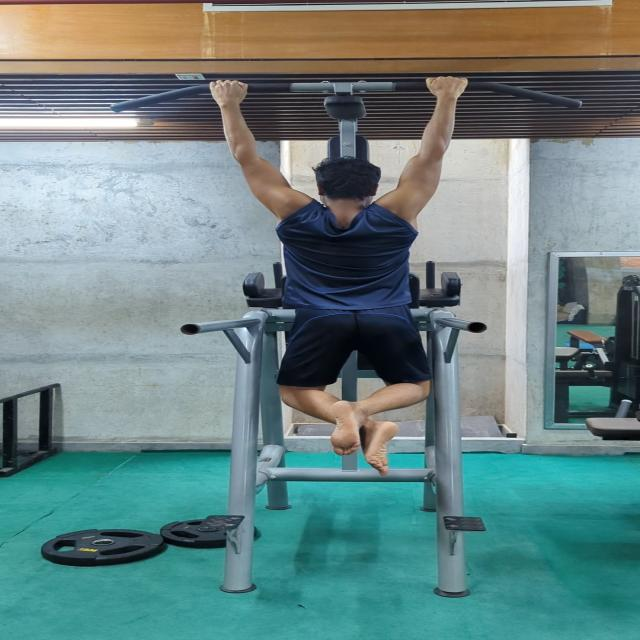Normal_PullUps: (204, 72, 478, 476)
